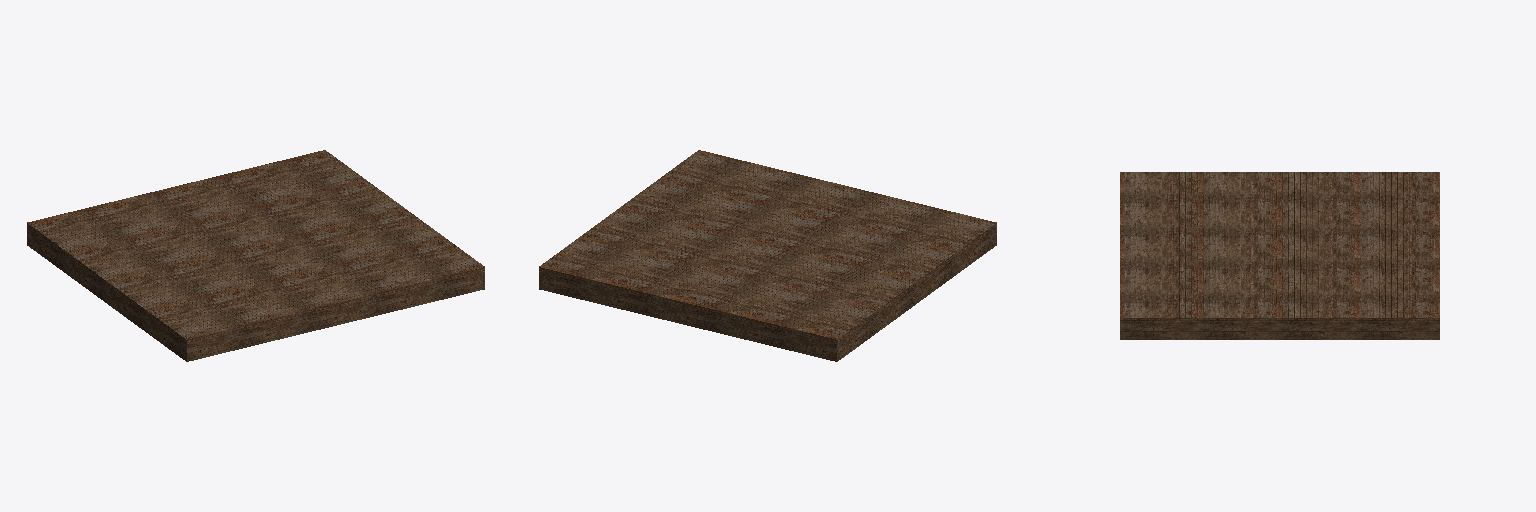
3 renders of one model, left to right at view 1: azimuth 30°, elevation 25°; view 2: azimuth 150°, elevation 25°; view 3: azimuth 270°, elevation 25°, orthographic.
Parts seen in each view (by area): view 1: entity0_brush0; view 2: entity0_brush0; view 3: entity0_brush0.
Boxes of the visible parts, x1=… form: entity0_brush0: x1=27, y1=150, x2=484, y2=361; entity0_brush0: x1=539, y1=150, x2=996, y2=361; entity0_brush0: x1=1120, y1=172, x2=1439, y2=339.
Size of the model in its own units: 448 by 32 by 416.
Materials: 1 (1 with a texture image).